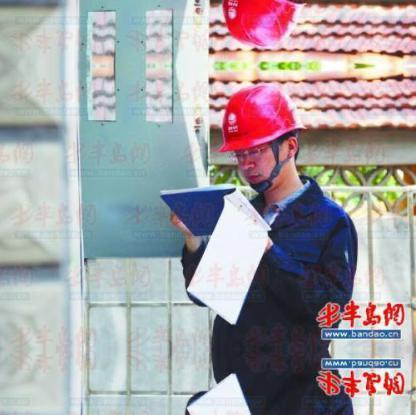helmet: (217, 84, 308, 155)
